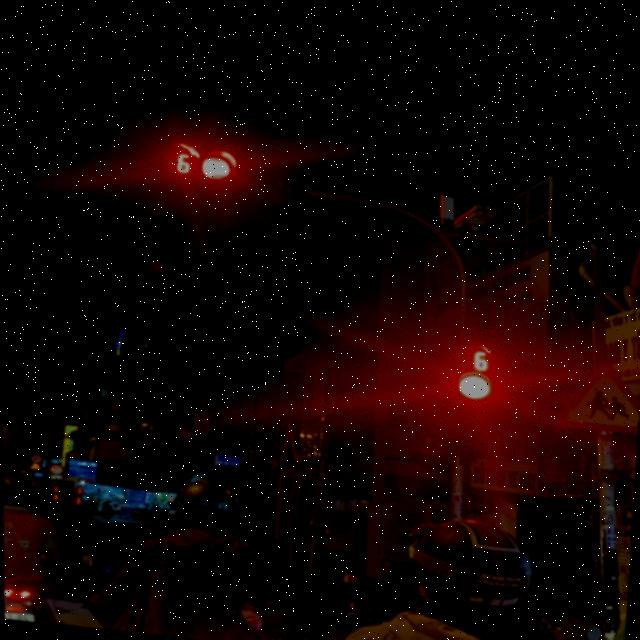Red: (192, 141, 314, 203), (446, 367, 500, 461)
